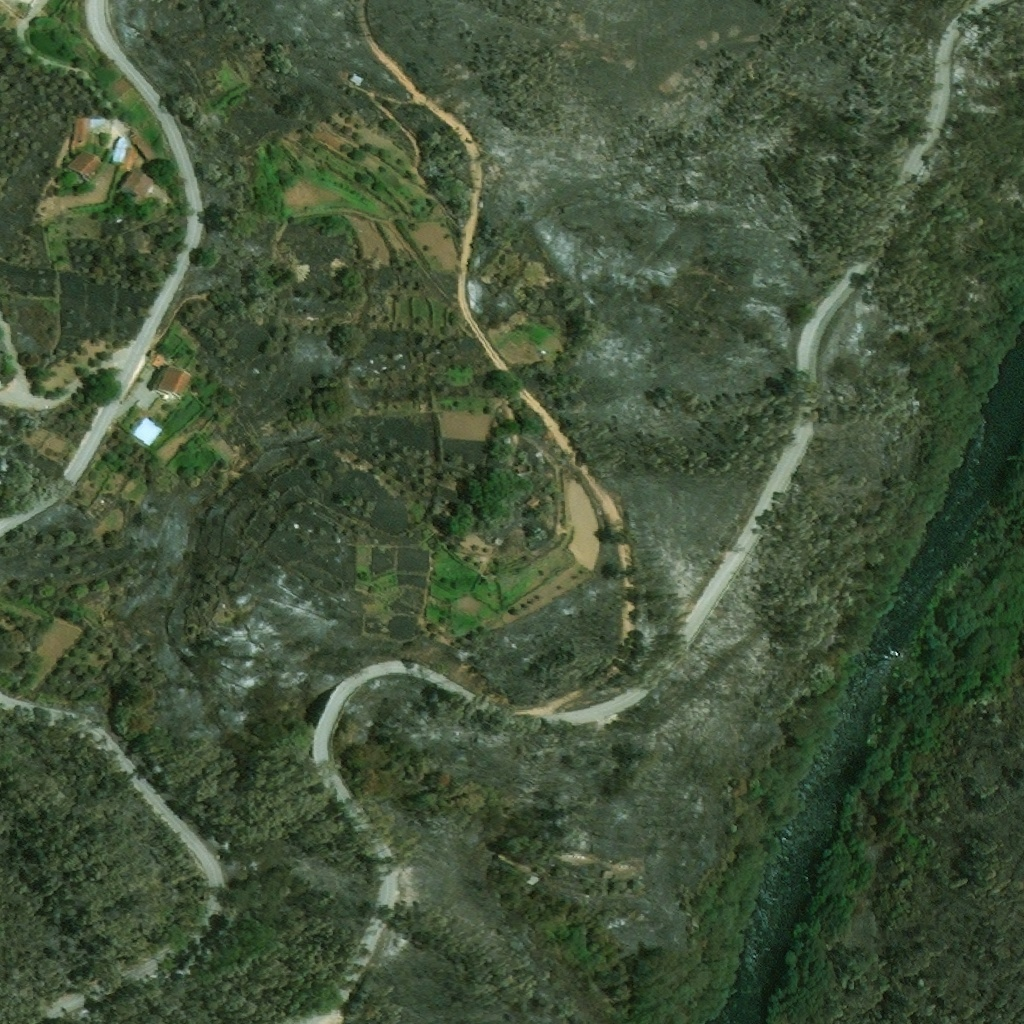0 no-damage: (145, 351, 195, 405), (116, 169, 154, 205), (63, 150, 104, 183), (127, 128, 158, 161), (131, 415, 162, 444), (69, 115, 90, 148), (108, 135, 127, 165), (120, 146, 136, 169), (90, 115, 105, 123)
3 destroyed: (348, 72, 367, 87)
